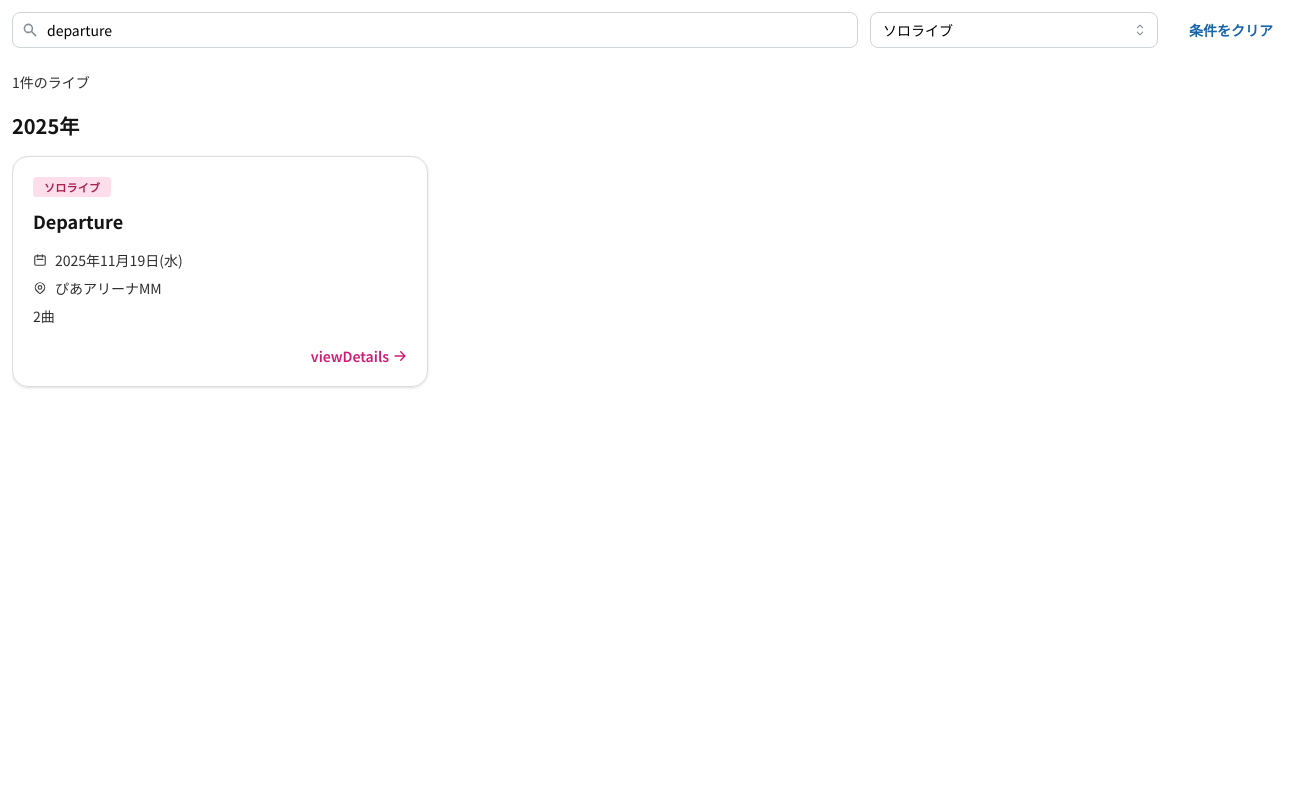
Test: LivesClient › URLのカテゴリとキーワードを復元し、クリアで全件に戻す
Expected: the heading "Departure" is shown, [33,208,123,234]
Expected: the text "First Gravity" is not shown
Step 1. Click the button "条件をクリア" → (1231, 30), box [1170,12,1292,48]
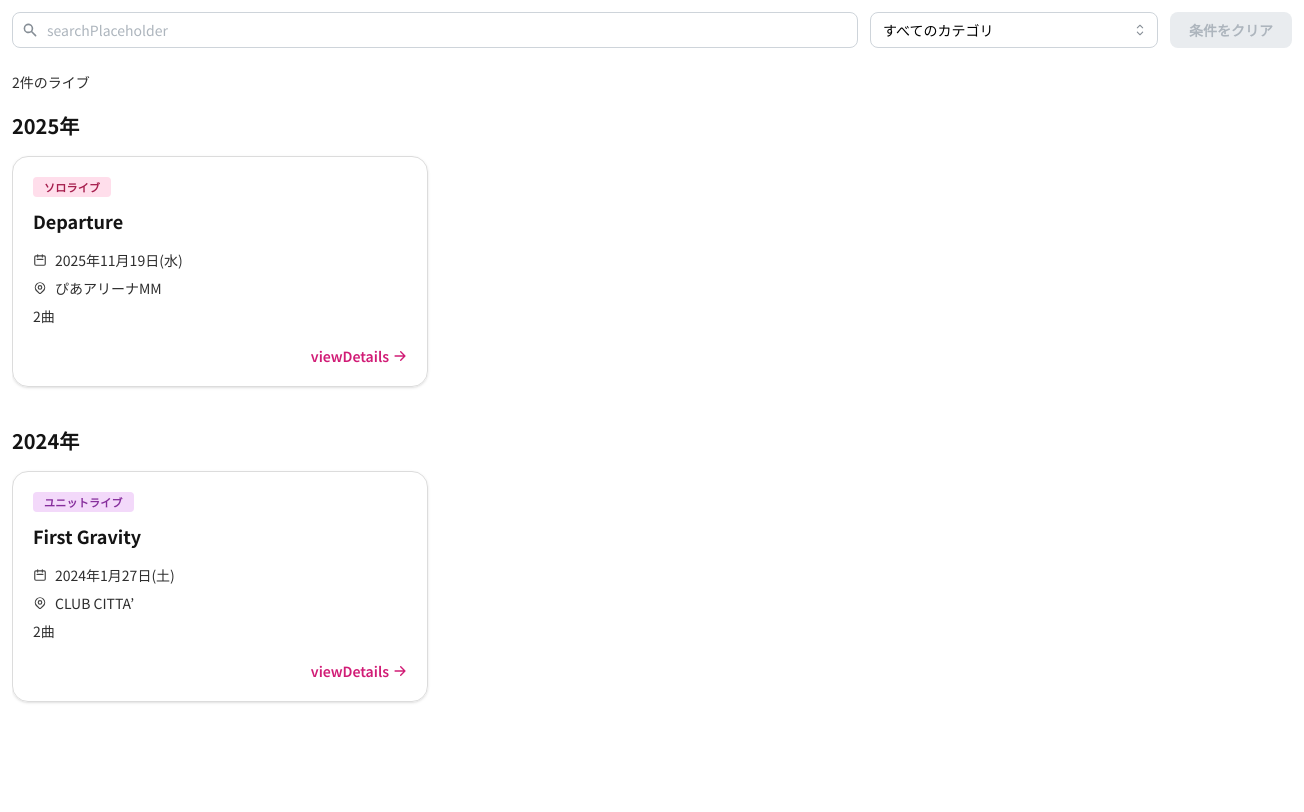
Expected: the heading "First Gravity" is shown, [33,523,141,549]
